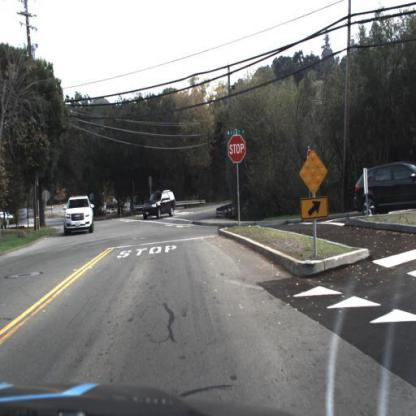car: (354, 162, 416, 219), (61, 193, 96, 237), (140, 186, 176, 220)
